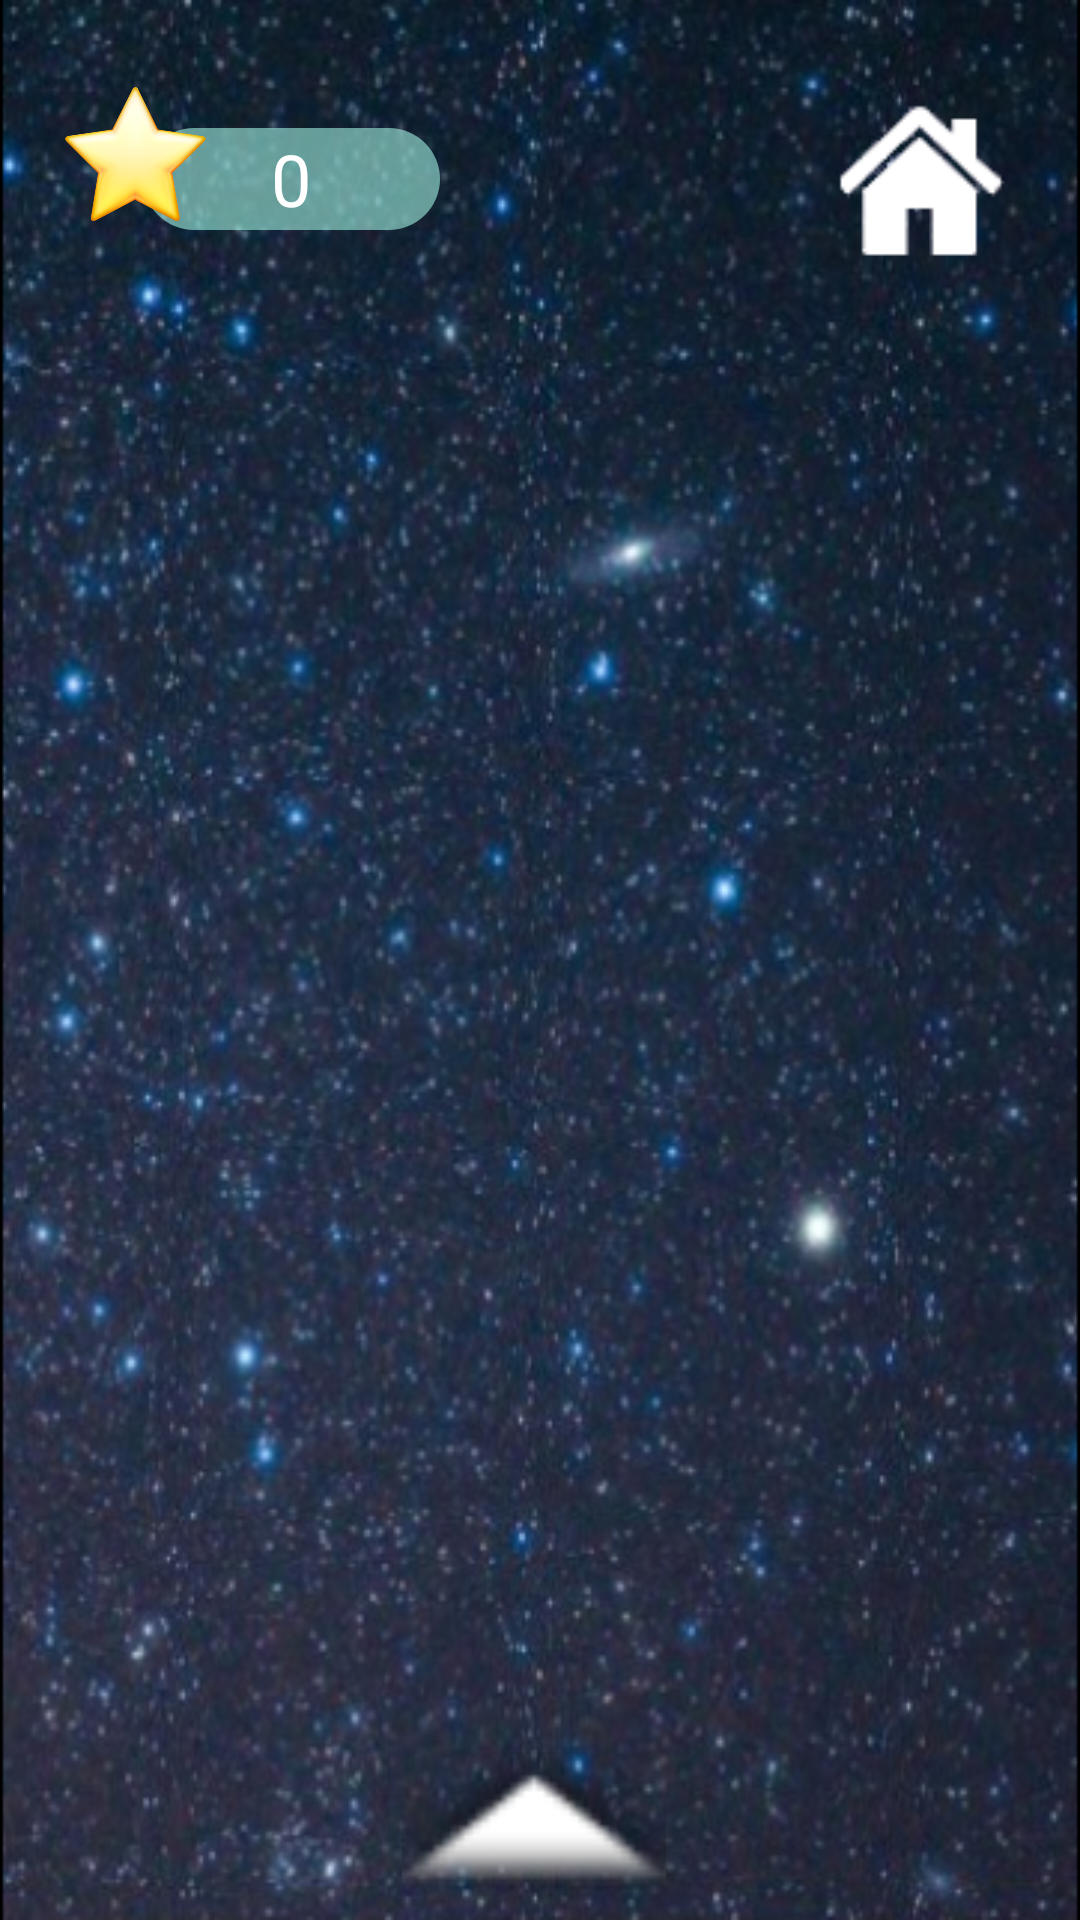

Icons on this 1080px×1920px Android screen, each with its box as detection(x1, y1, x2, y2):
arrow up float: detection(404, 1752, 666, 1896)
star: detection(24, 24, 246, 285)
